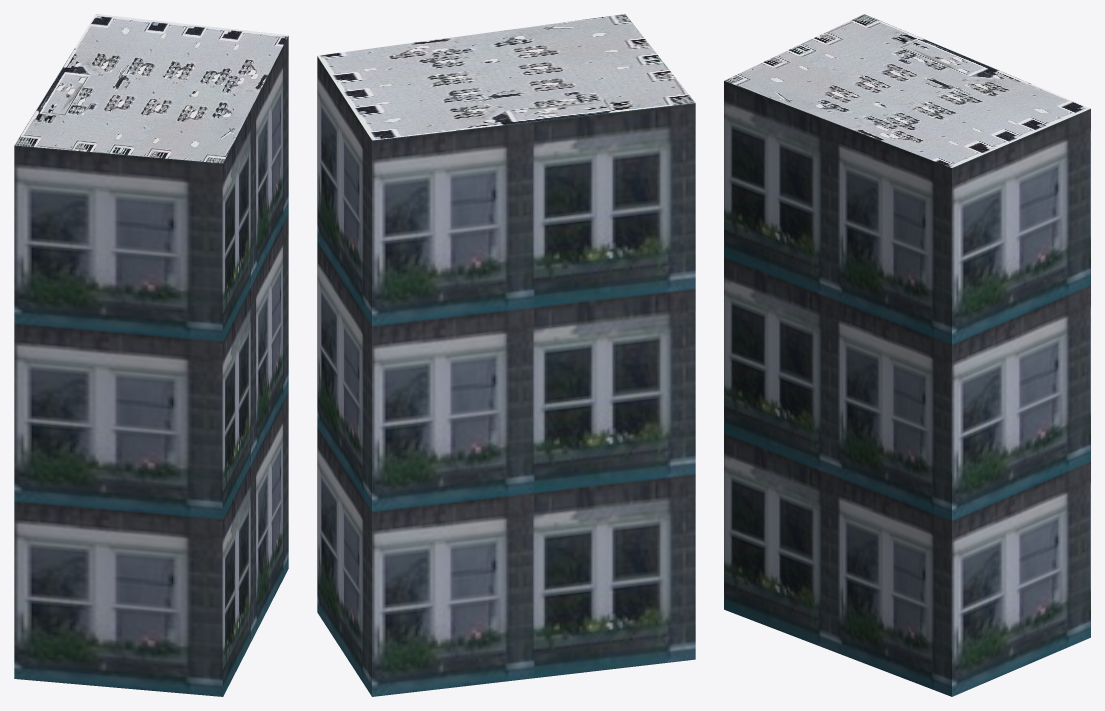
The model's file is ResTex__464.fbx.
3 views of the same model, side by side, from view 1: azimuth 30°, elevation 25°; view 2: azimuth 150°, elevation 25°; view 3: azimuth 270°, elevation 25° (orthographic). The views are drawn at different scales.
Parts seen in each view (by area): view 1: CityEngineMaterial_11_m, CityEngineMaterial_8_m; view 2: CityEngineMaterial_11_m, CityEngineMaterial_8_m; view 3: CityEngineMaterial_11_m, CityEngineMaterial_8_m.
Part boxes in pixels (x1,y1,x2,y2): CityEngineMaterial_11_m: [14, 36, 288, 696]; CityEngineMaterial_8_m: [14, 14, 288, 163]; CityEngineMaterial_11_m: [317, 56, 695, 696]; CityEngineMaterial_8_m: [317, 14, 695, 140]; CityEngineMaterial_11_m: [724, 81, 1090, 696]; CityEngineMaterial_8_m: [724, 14, 1090, 167].
Bounding box in the file's own units: 5.62 × 9 × 5.66.
Materials: 2 (2 with a texture image).
